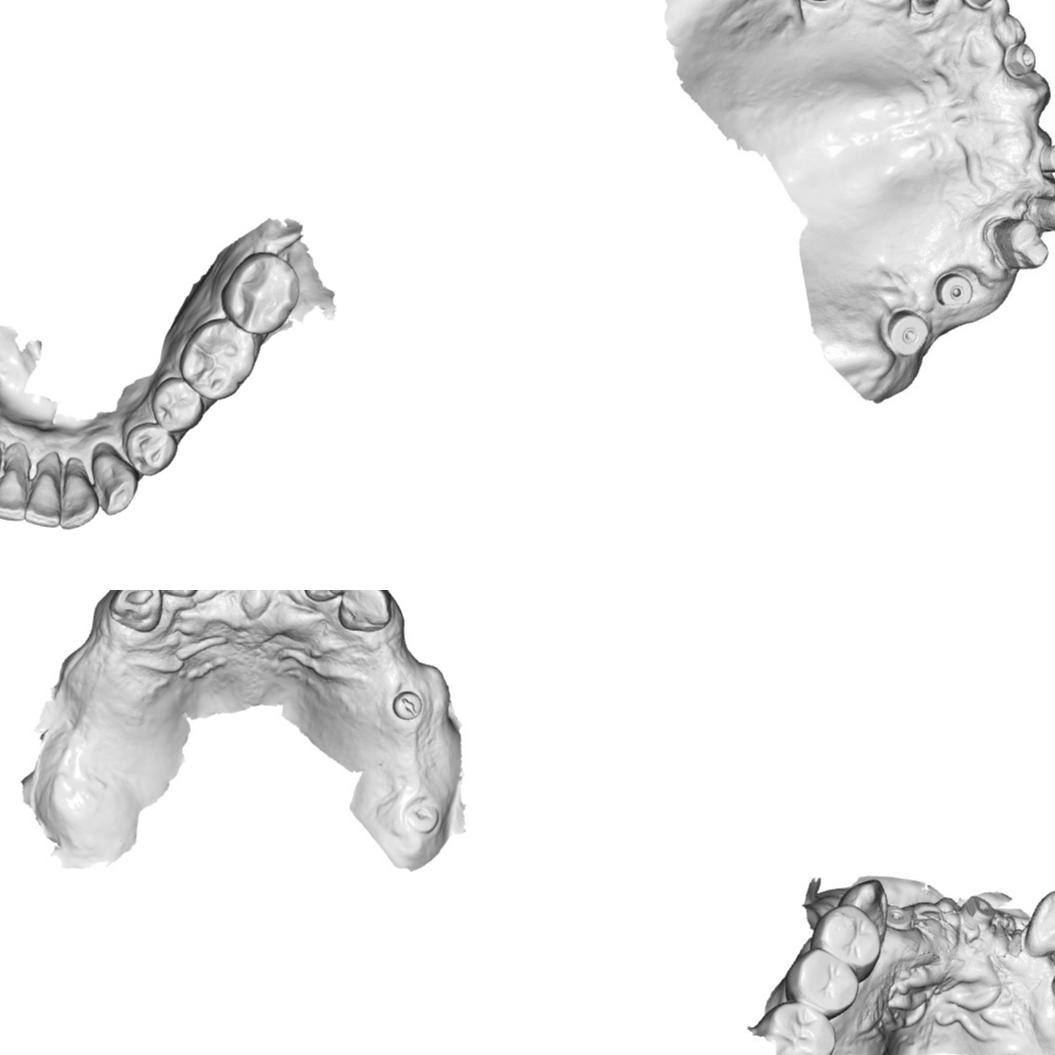canine: (91, 443, 141, 518), (108, 590, 163, 633), (337, 590, 392, 632), (1026, 887, 1055, 960)
crown: (993, 220, 1050, 280), (1028, 189, 1055, 231)
implant: (886, 310, 931, 356), (954, 886, 998, 932), (936, 272, 972, 311), (402, 800, 441, 836), (882, 898, 920, 933), (1008, 38, 1036, 79), (1040, 141, 1055, 172), (962, 0, 1009, 9)
implant_minus: (392, 690, 421, 721)
incisor: (57, 460, 100, 531), (25, 457, 64, 530), (0, 446, 30, 526), (301, 590, 353, 602)
molar: (175, 314, 259, 404), (219, 249, 304, 336)
premolar: (783, 949, 864, 1019), (808, 903, 878, 969), (123, 419, 179, 480), (149, 375, 204, 435)
